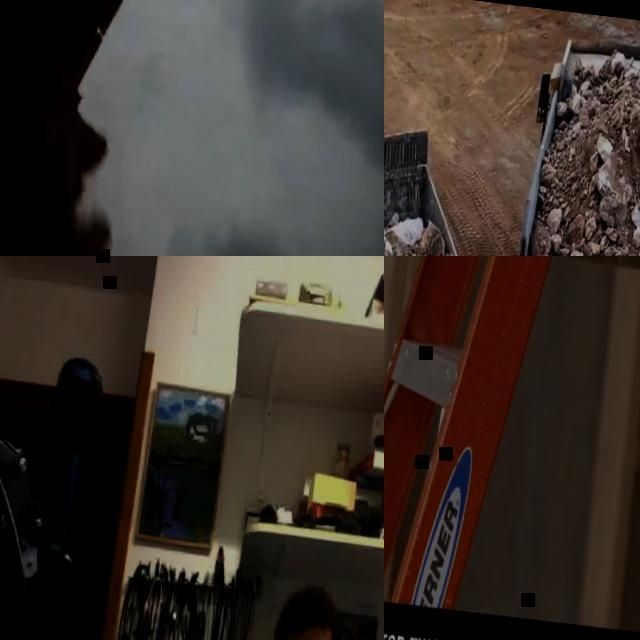NO-Hardhat: (276, 583, 341, 640)
machinery: (491, 20, 640, 256), (384, 0, 498, 256)
